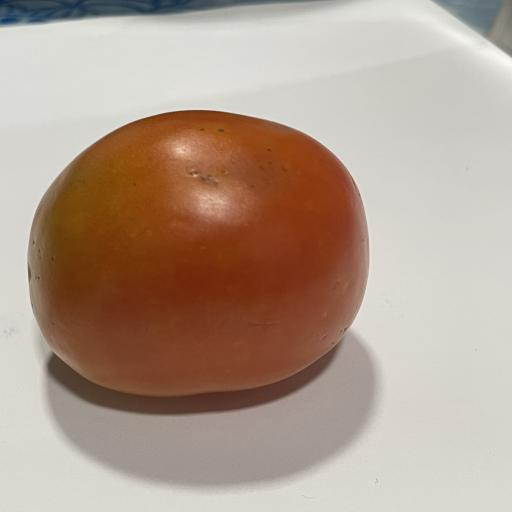unripe: (27, 111, 369, 396)
